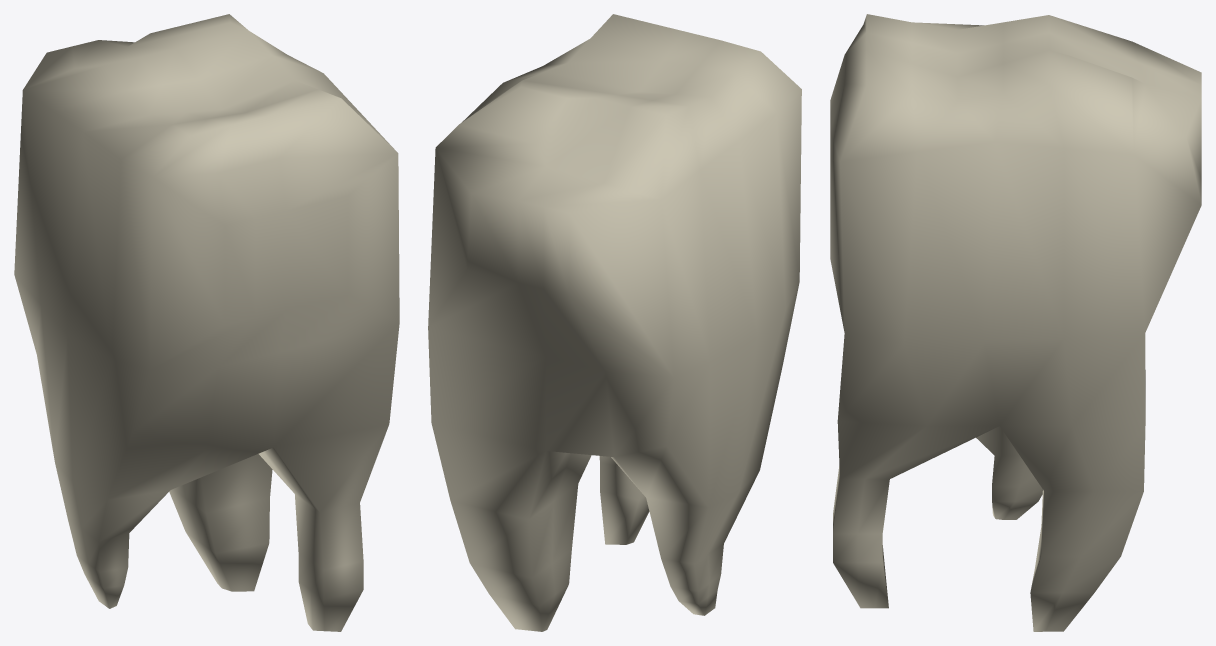
The model's file is Tooth.fbx.
3 renders of one model, left to right at view 1: azimuth 30°, elevation 25°; view 2: azimuth 150°, elevation 25°; view 3: azimuth 270°, elevation 25°, orthographic.
Parts seen in each view (by area): view 1: Tooth; view 2: Tooth; view 3: Tooth.
Boxes of the visible parts, x1,y1,x2,y2 form: Tooth: (14, 14, 399, 631); Tooth: (428, 14, 801, 631); Tooth: (830, 14, 1201, 631).
Size of the model in its own units: 42.88 by 83.56 by 51.11.
